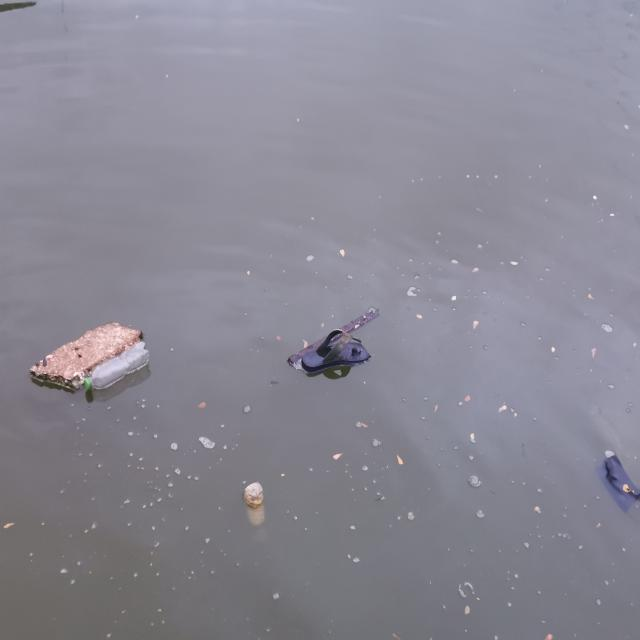foam: (26, 316, 146, 391)
plastic: (82, 337, 154, 397)
unknow: (284, 301, 376, 366), (299, 329, 370, 377), (603, 447, 640, 511), (240, 475, 268, 531)
